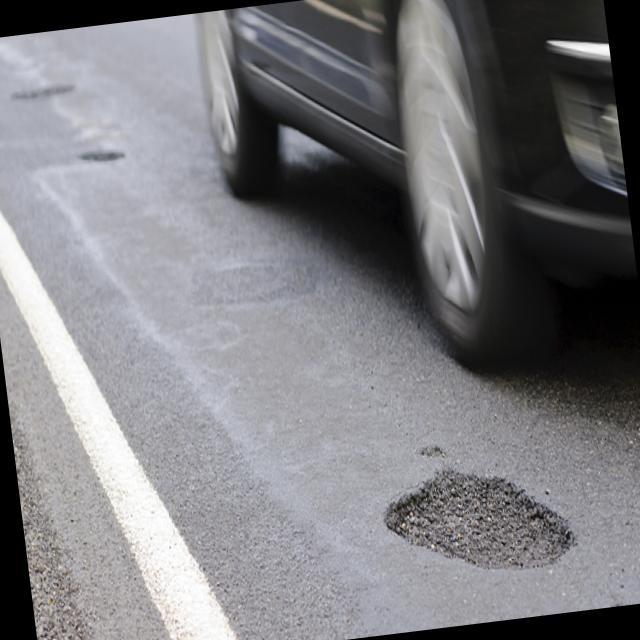Pothole: (379, 452, 582, 586), (78, 146, 124, 171)
